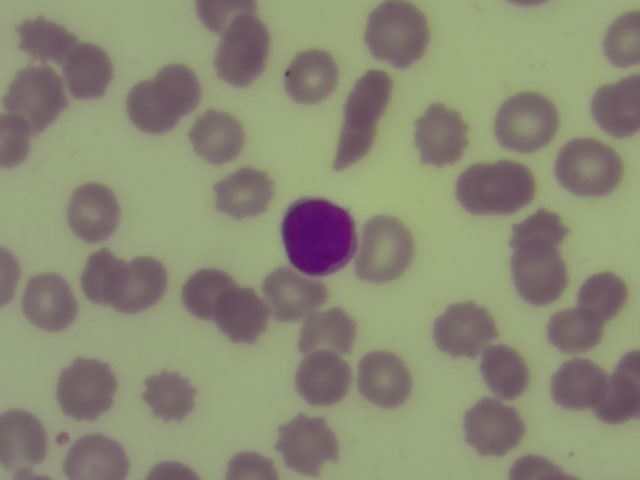Platelets: (51, 426, 74, 451)
RBC: (55, 355, 117, 419), (364, 1, 427, 63), (461, 157, 528, 214), (1, 66, 62, 126), (360, 211, 410, 281), (1, 406, 49, 477), (264, 268, 327, 318), (66, 431, 130, 480), (595, 72, 640, 140), (560, 140, 616, 194), (124, 77, 170, 139), (438, 305, 492, 357), (498, 96, 552, 148), (358, 354, 412, 406), (280, 417, 334, 469), (143, 369, 197, 421), (296, 352, 350, 404), (301, 305, 355, 357), (212, 288, 266, 340), (181, 265, 235, 317), (111, 257, 165, 309), (21, 276, 75, 328), (66, 188, 120, 240), (216, 167, 270, 219), (188, 109, 242, 161), (413, 111, 467, 163), (284, 51, 338, 103), (214, 27, 268, 79), (61, 44, 115, 96), (17, 12, 71, 64), (479, 346, 533, 398), (552, 357, 606, 409), (467, 400, 521, 452), (510, 248, 564, 300), (81, 249, 126, 305), (578, 271, 629, 319), (511, 210, 568, 252), (546, 307, 599, 352), (334, 112, 373, 173), (592, 379, 640, 428), (345, 67, 385, 124), (600, 11, 640, 67), (152, 65, 197, 110), (197, 1, 259, 32), (1, 108, 31, 170), (223, 446, 277, 480)
WBC: (279, 196, 355, 273)
